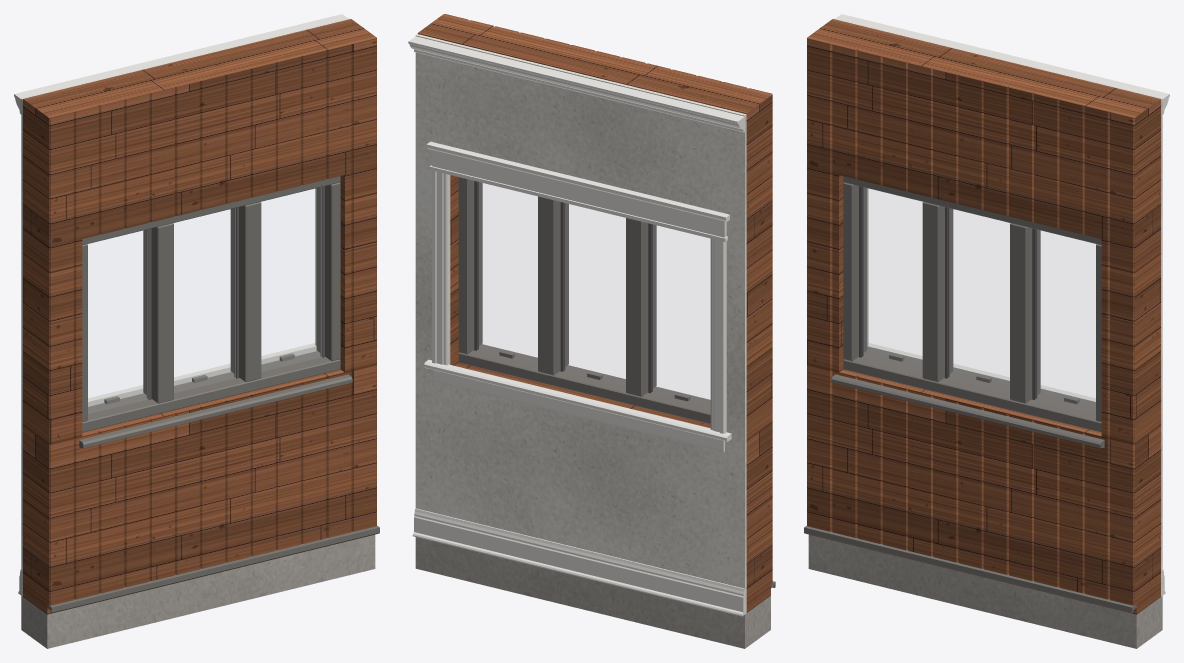
The model's file is wall_window.glb.
3 renders of one model, left to right at view 1: azimuth 30°, elevation 25°; view 2: azimuth 150°, elevation 25°; view 3: azimuth 330°, elevation 25°, orthographic.
Visible parts, largest first — view 1: wall_window_boards, wall_window_metal, wall_window_concrete, folha_2_glass, folha_3_glass, folha_glass, molduras, wall_window_plaster, folha_dark, folha_3_dark, folha_2_dark; view 2: wall_window_plaster, molduras, wall_window_boards, wall_window_metal, wall_window_concrete, folha_2_glass, folha_3_glass, folha_glass, folha_2_dark, folha_3_dark, folha_dark; view 3: wall_window_boards, wall_window_metal, wall_window_concrete, folha_2_glass, folha_3_glass, folha_glass, molduras, wall_window_plaster, folha_3_dark, folha_2_dark, folha_dark.
Part boxes in pixels (x1=…): wall_window_boards: x1=23, y1=19, x2=376, y2=614; wall_window_metal: x1=47, y1=176, x2=379, y2=613; wall_window_concrete: x1=21, y1=534, x2=375, y2=648; folha_2_glass: x1=174, y1=208, x2=235, y2=392; folha_3_glass: x1=262, y1=187, x2=321, y2=370; folha_glass: x1=88, y1=230, x2=147, y2=413; molduras: x1=14, y1=14, x2=347, y2=595; wall_window_plaster: x1=21, y1=18, x2=349, y2=596; folha_dark: x1=146, y1=228, x2=151, y2=399; folha_3_dark: x1=320, y1=186, x2=325, y2=357; folha_2_dark: x1=234, y1=207, x2=239, y2=378; wall_window_plaster: x1=415, y1=34, x2=746, y2=613; molduras: x1=408, y1=36, x2=744, y2=616; wall_window_boards: x1=417, y1=14, x2=772, y2=612; wall_window_metal: x1=458, y1=177, x2=775, y2=588; wall_window_concrete: x1=415, y1=537, x2=770, y2=648; folha_2_glass: x1=564, y1=203, x2=625, y2=385; folha_3_glass: x1=478, y1=182, x2=537, y2=364; folha_glass: x1=652, y1=225, x2=709, y2=406; folha_2_dark: x1=560, y1=202, x2=565, y2=371; folha_3_dark: x1=474, y1=181, x2=478, y2=350; folha_dark: x1=648, y1=223, x2=652, y2=393; wall_window_boards: x1=807, y1=19, x2=1160, y2=614; wall_window_metal: x1=804, y1=176, x2=1136, y2=613; wall_window_concrete: x1=808, y1=534, x2=1162, y2=648; folha_2_glass: x1=948, y1=208, x2=1009, y2=392; folha_3_glass: x1=1036, y1=230, x2=1095, y2=413; folha_glass: x1=862, y1=187, x2=921, y2=370; molduras: x1=836, y1=14, x2=1169, y2=595; wall_window_plaster: x1=834, y1=18, x2=1162, y2=596; folha_3_dark: x1=1032, y1=228, x2=1037, y2=399; folha_2_dark: x1=944, y1=207, x2=949, y2=378; folha_dark: x1=858, y1=186, x2=863, y2=357.
Size of the model in its own units: 2 by 3.1 by 0.42.
7 materials, 3 textured.
